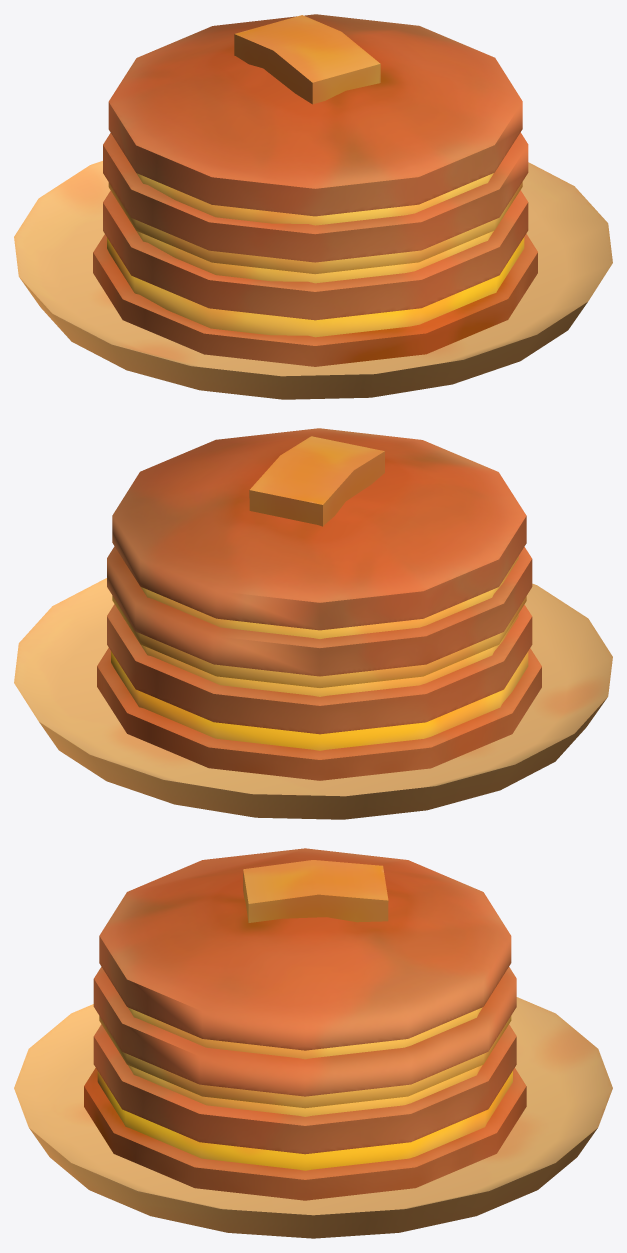
Rendered from pancake-big.glb.
3 renders of one model, top to bottom at view 1: azimuth 30°, elevation 25°; view 2: azimuth 150°, elevation 25°; view 3: azimuth 270°, elevation 25°, orthographic.
Parts seen in each view (by area): view 1: Pancake_Big_Foodback_Materials_10_20_0; view 2: Pancake_Big_Foodback_Materials_10_20_0; view 3: Pancake_Big_Foodback_Materials_10_20_0.
Part boxes in pixels (x1,y1,x2,y2): Pancake_Big_Foodback_Materials_10_20_0: (14,14,612,399); Pancake_Big_Foodback_Materials_10_20_0: (14,428,612,819); Pancake_Big_Foodback_Materials_10_20_0: (14,848,612,1238).
Bounding box in the file's own units: 2.37 × 1.05 × 2.36.
Materials: 1 (1 with a texture image).
